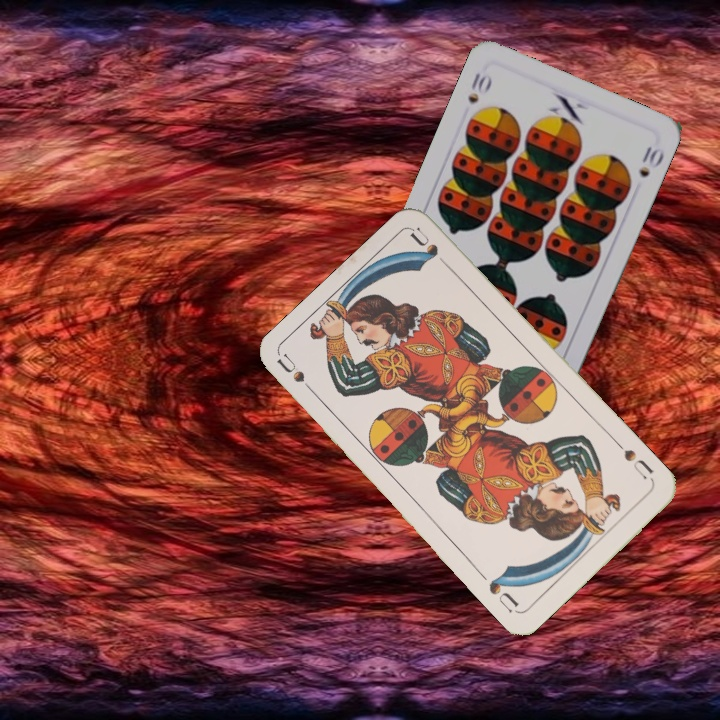S10: (463, 69, 495, 106)
SU: (274, 350, 322, 401), (612, 437, 656, 482)
